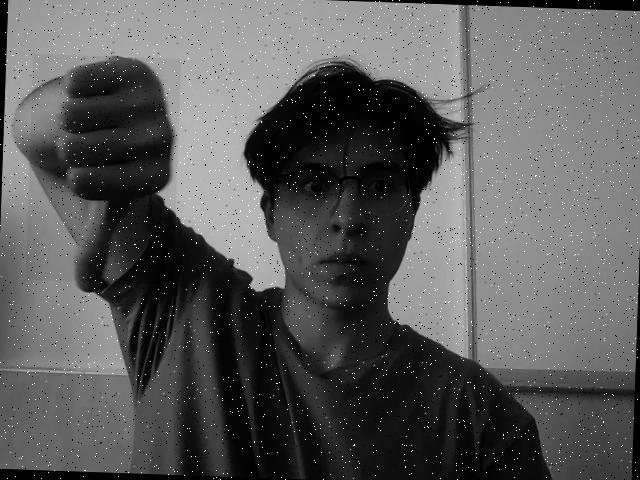bad: (26, 54, 182, 285)
